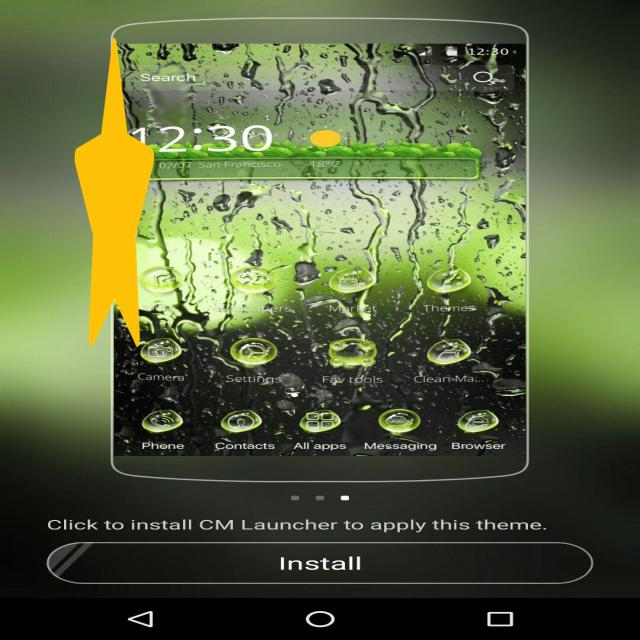forced continuity: (75, 38, 154, 347)
